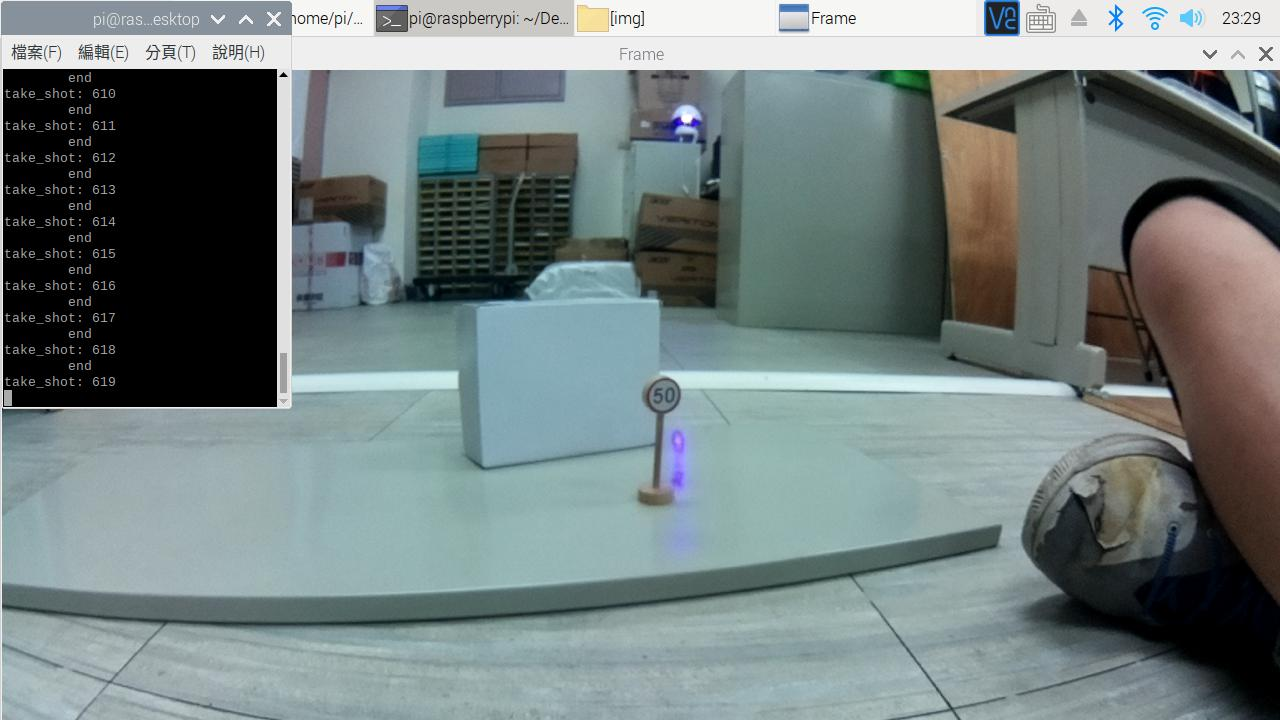Speed50: (639, 375, 692, 422)
